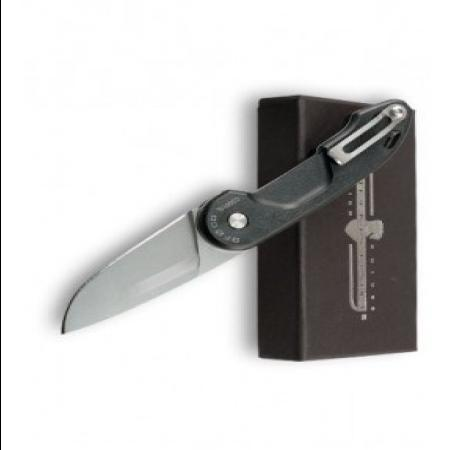long weapon: (55, 182, 255, 336)
